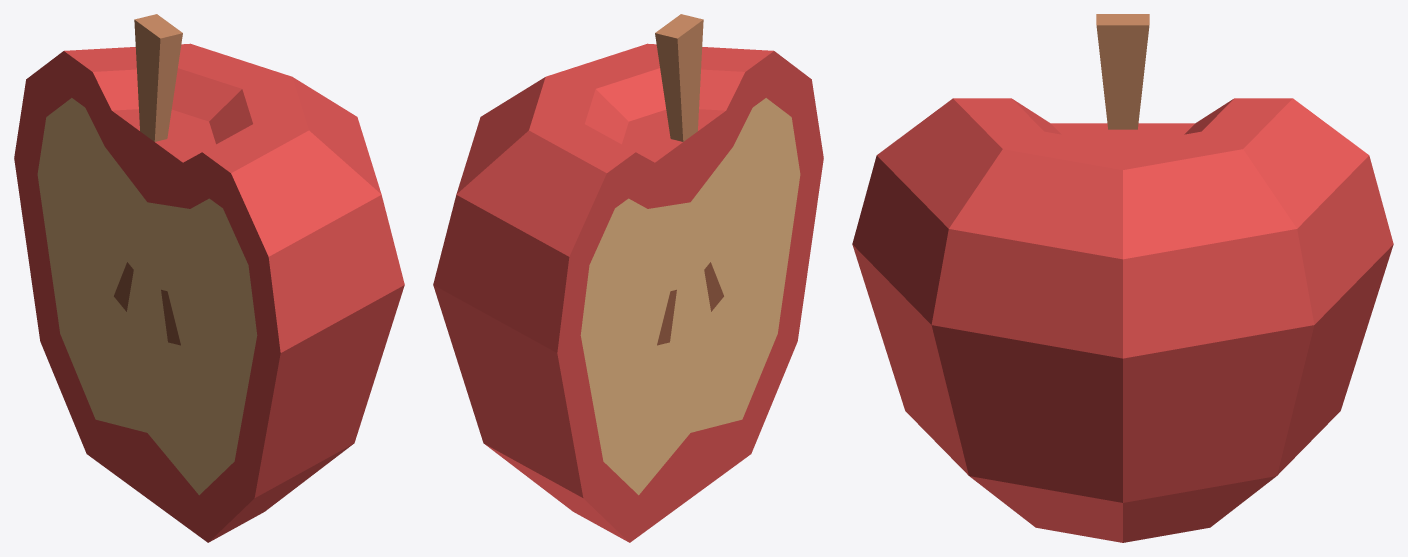
The model's file is appleHalf.obj.
The picture shows the model from 3 angles, left to right: view 1: azimuth 30°, elevation 25°; view 2: azimuth 150°, elevation 25°; view 3: azimuth 270°, elevation 25°; orthographic projection.
Parts seen in each view (by area): view 1: appleHalf; view 2: appleHalf; view 3: appleHalf.
Boxes of the visible parts, box(x1,y1,x2,y2) form: appleHalf: box(14, 14, 404, 542); appleHalf: box(433, 14, 823, 542); appleHalf: box(852, 14, 1393, 542).
Bounding box in the file's own units: 0.0981 × 0.1908 × 0.1963.
